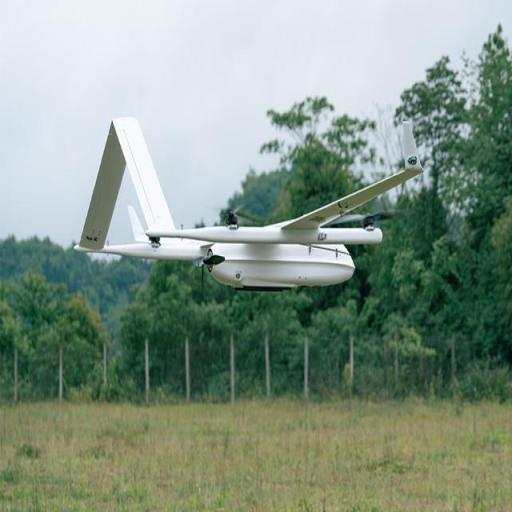uav: (63, 108, 444, 335)
